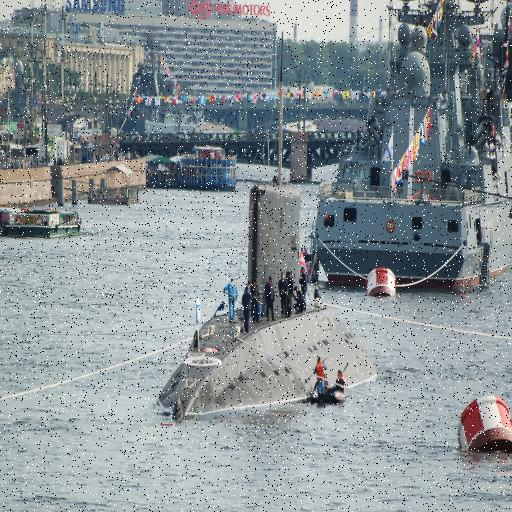submarine: (153, 183, 383, 422)
